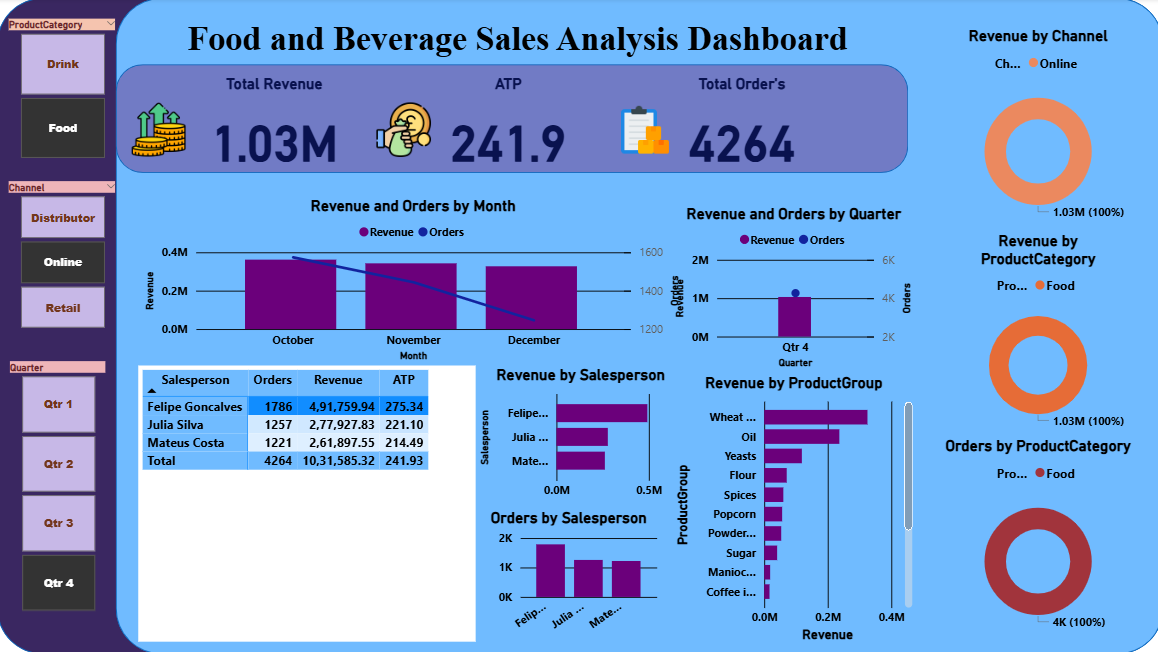

This screenshot's page, from the dashboard's own definition file:
{"tool":"powerbi","page":{"name":"Page 2","canvas":[1280,720],"ordinal":1},"visuals":[{"type":"shape","box":[0,0,1280.3,720.4],"z":0},{"type":"shape","box":[130.4,0,1149.9,720.4],"z":1000},{"type":"shape","box":[130.4,72.7,870,119.4],"z":2000},{"type":"card","title":"Total Revenue","fields":{"Values":["Product.Revenue"]},"box":[155.1,83.7,299.1,119.4],"z":3000},{"type":"card","title":"ATP","fields":{"Values":["Product.ATP"]},"box":[411.7,83.7,299.1,119.4],"z":4000},{"type":"card","title":"Total Order''s","fields":{"Values":["Product.Orders"]},"box":[668.3,83.7,299.1,119.4],"z":5000},{"type":"donutChart","fields":{"Y":["Product.Revenue"],"Category":["Sheet1.Channel"]},"box":[1033.3,31.6,219.6,225],"z":6000},{"type":"donutChart","fields":{"Y":["Product.Revenue"],"Category":["Product.ProductCategory"]},"box":[1033.3,256.6,219.6,225],"z":7000},{"type":"donutChart","fields":{"Category":["Product.ProductCategory"],"Y":["Product.Orders"]},"box":[1033.3,481.6,219.6,225],"z":8000},{"type":"lineStackedColumnComboChart","fields":{"Y":["Product.Revenue"],"Y2":["Product.Orders"],"Category":["Sheet1.OrderDate.Variation.Date Hierarchy.Quarter"]},"box":[739.6,226.4,270.3,185.2],"z":9000},{"type":"barChart","fields":{"Y":["Product.Revenue"],"Category":["Product.ProductGroup"]},"box":[739.6,411.7,270.3,300.5],"z":10000},{"type":"lineStackedColumnComboChart","fields":{"Y":["Product.Revenue"],"Y2":["Product.Orders"],"Category":["Sheet1.OrderDate.Variation.Date Hierarchy.Month"]},"box":[157.8,218.2,598.3,185.2],"z":11000},{"type":"barChart","fields":{"Y":["Product.Revenue"],"Category":["Sheet1.Salesperson"]},"box":[525.6,403.4,230.5,155.1],"z":12000},{"type":"clusteredColumnChart","fields":{"Y":["Product.Orders"],"Category":["Sheet1.Salesperson"]},"box":[525.6,559.9,204.5,146.8],"z":13000},{"type":"pivotTable","fields":{"Rows":["Sheet1.Salesperson"],"Values":["Product.Orders","Product.Revenue","Product.ATP"]},"box":[155.1,403.4,370.5,303.3],"z":14000},{"type":"slicer","fields":{"Values":["Product.ProductCategory"]},"box":[0,17.8,142.7,164.7],"z":15000},{"type":"slicer","fields":{"Values":["Sheet1.Channel"]},"box":[0,196.2,142.7,172.9],"z":16000},{"type":"slicer","fields":{"Values":["Sheet1.OrderDate.Variation.Date Hierarchy.Quarter"]},"box":[1.4,393.8,130.4,285.4],"z":17000},{"type":"textbox","box":[142.7,17.8,857.6,54.9],"z":18000},{"type":"image","box":[142.7,109.8,70,70],"z":19000},{"type":"image","box":[676.5,109.8,70,70],"z":20000},{"type":"image","box":[411.7,109.8,70,70],"z":21000}]}

Visuals, with their boxes in screenshot pixels (x1, y1, x2, y2), scaled from the page's 1280x720 canvas onto the 1158x652 screenshot:
shape: 0/0/1157/651
shape: 118/0/1157/651
shape: 118/66/905/174
"Total Revenue" card: 140/76/411/184
"ATP" card: 372/76/643/184
"Total Order''s" card: 605/76/875/184
donutChart - Product.Revenue x Sheet1.Channel: 935/29/1133/232
donutChart - Product.Revenue x Product.ProductCategory: 935/232/1133/436
donutChart - Product.ProductCategory x Product.Orders: 935/436/1133/640
lineStackedColumnComboChart - Product.Revenue x Product.Orders: 669/205/914/373
barChart - Product.Revenue x Product.ProductGroup: 669/373/914/645
lineStackedColumnComboChart - Product.Revenue x Product.Orders: 143/198/684/365
barChart - Product.Revenue x Sheet1.Salesperson: 476/365/684/506
clusteredColumnChart - Product.Orders x Sheet1.Salesperson: 476/507/661/640
pivotTable - Sheet1.Salesperson x Product.Orders: 140/365/476/640
slicer - Product.ProductCategory: 0/16/129/165
slicer - Sheet1.Channel: 0/178/129/334
slicer - Sheet1.OrderDate.Variation.Date Hierarchy.Quarter: 1/357/119/615
textbox: 129/16/905/66
image: 129/99/192/163
image: 612/99/675/163
image: 372/99/436/163
